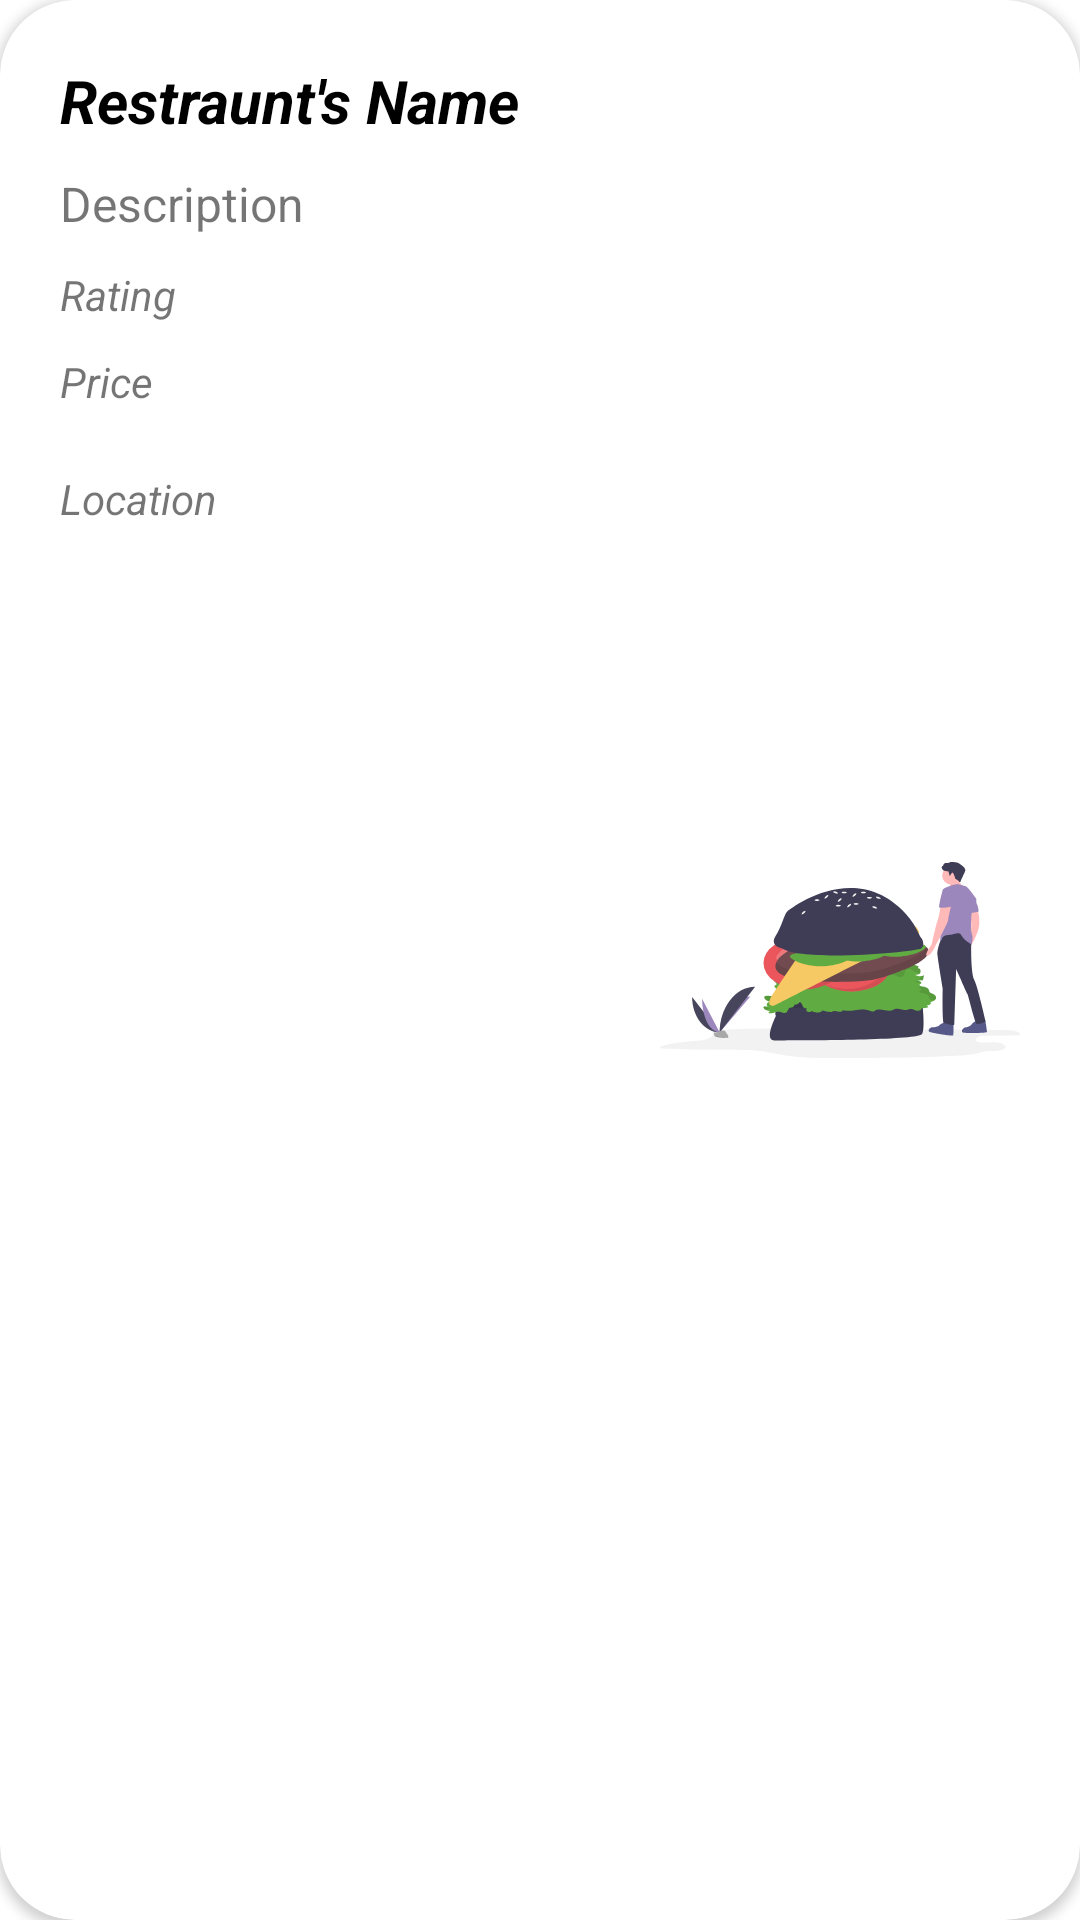

Icons on this 1080px×1920px Android screen, each with its box as (x1, y1, x2, y2):
restro: (692, 862, 987, 1041)
